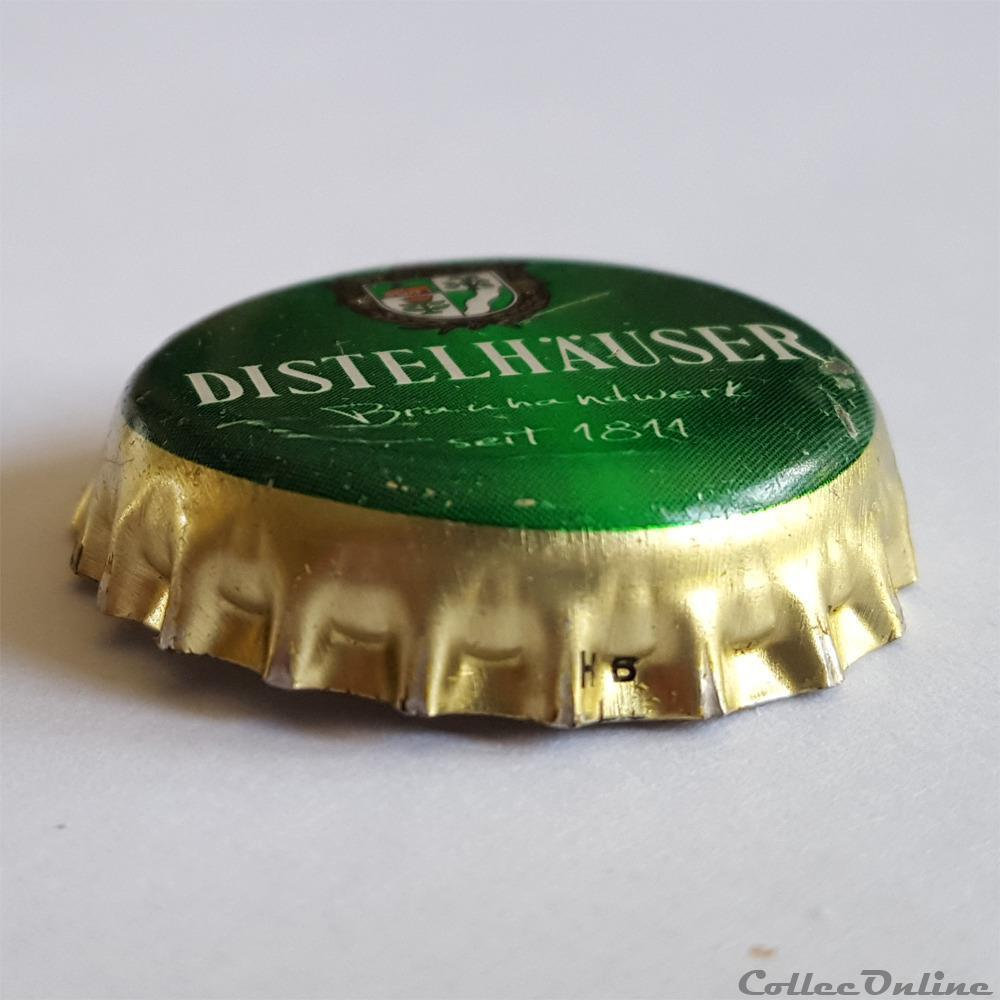metal: (73, 260, 919, 728)
